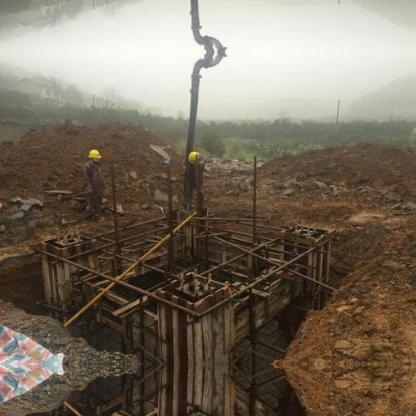Helmet: (84, 146, 104, 164), (184, 150, 204, 164)
